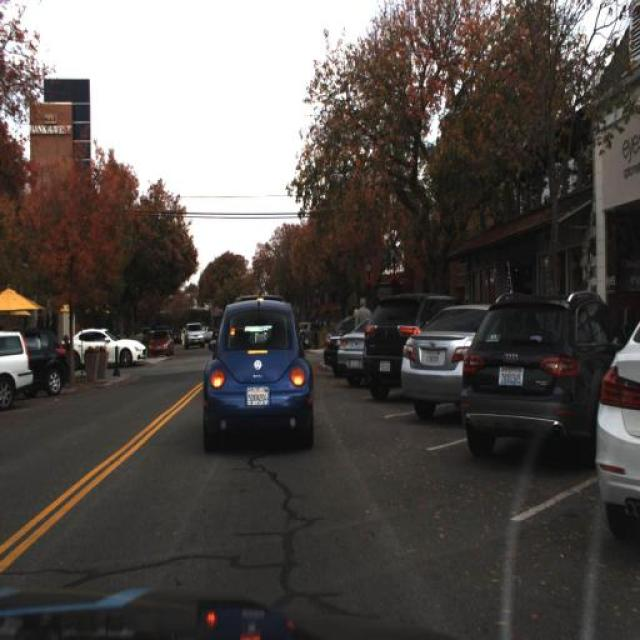car: (460, 286, 632, 460), (201, 296, 319, 456), (596, 301, 639, 549), (361, 294, 454, 401), (401, 300, 484, 418), (72, 326, 146, 368), (333, 314, 375, 386), (35, 324, 69, 396), (1, 328, 34, 402), (321, 325, 349, 375), (144, 322, 174, 358), (180, 319, 208, 350)
trafficLight: (353, 292, 372, 382)
